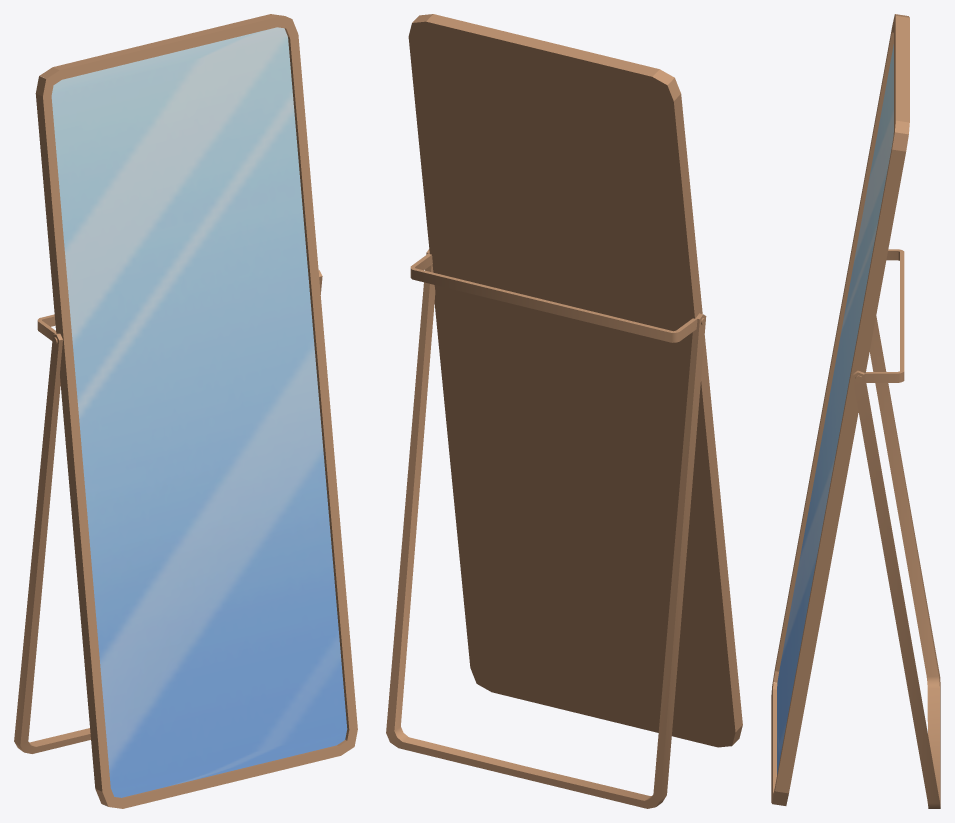
The model's file is cheval glass.fbx.
3 views of the same model, side by side, from view 1: azimuth 30°, elevation 25°; view 2: azimuth 150°, elevation 25°; view 3: azimuth 270°, elevation 25° (orthographic). The views are drawn at different scales.
Visible parts, largest first — view 1: Cheval glass; view 2: Cheval glass; view 3: Cheval glass.
Part boxes in pixels (x1,y1,x2,y2): Cheval glass: (14, 14, 357, 808); Cheval glass: (386, 14, 742, 808); Cheval glass: (771, 14, 940, 808).
Size of the model in its own units: 0.741 by 1.85 by 0.4155.
1 material, 1 textured.
